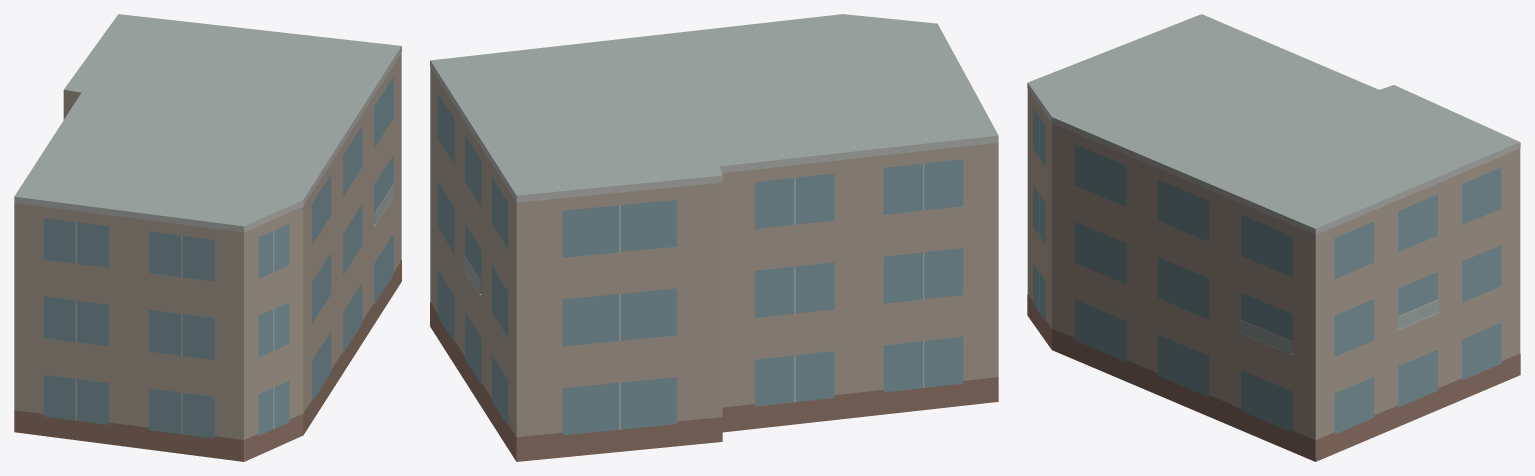
File: survey-upis-32717476.glb
3 views of the same model, side by side, from view 1: azimuth 30°, elevation 25°; view 2: azimuth 150°, elevation 25°; view 3: azimuth 270°, elevation 25° (orthographic). The views are drawn at different scales.
Parts seen in each view (by area): view 1: survey-upis-32717476.tmp; view 2: survey-upis-32717476.tmp; view 3: survey-upis-32717476.tmp.
Boxes of the visible parts, x1=… form: survey-upis-32717476.tmp: x1=14, y1=14, x2=401, y2=461; survey-upis-32717476.tmp: x1=430, y1=14, x2=998, y2=461; survey-upis-32717476.tmp: x1=1027, y1=14, x2=1520, y2=461.
Bounding box in the file's own units: 18.21 × 9.2 × 17.65.
